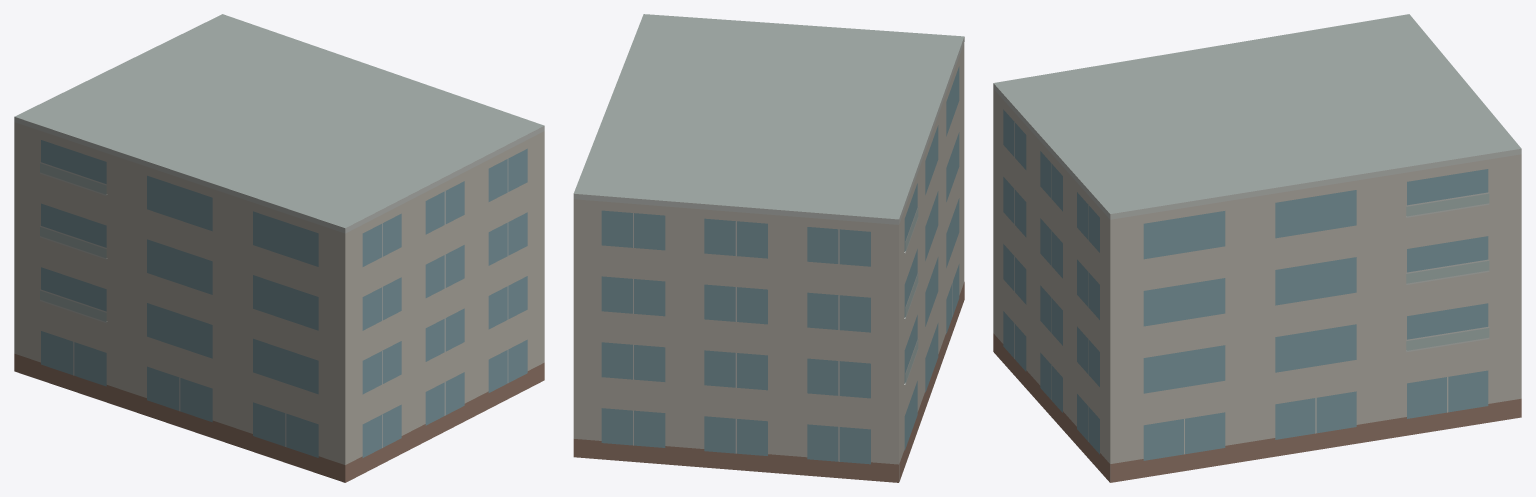
The model's file is survey-upis-32999201.glb.
The picture shows the model from 3 angles, left to right: view 1: azimuth 30°, elevation 25°; view 2: azimuth 150°, elevation 25°; view 3: azimuth 270°, elevation 25°; orthographic projection. The views are drawn at different scales.
Visible parts, largest first — view 1: survey-upis-32999201.tmp; view 2: survey-upis-32999201.tmp; view 3: survey-upis-32999201.tmp.
Part boxes in pixels (x1=…): survey-upis-32999201.tmp: x1=14, y1=14, x2=544, y2=482; survey-upis-32999201.tmp: x1=573, y1=14, x2=964, y2=482; survey-upis-32999201.tmp: x1=993, y1=14, x2=1521, y2=482.
Bounding box in the file's own units: 18.78 × 11.75 × 20.95.
